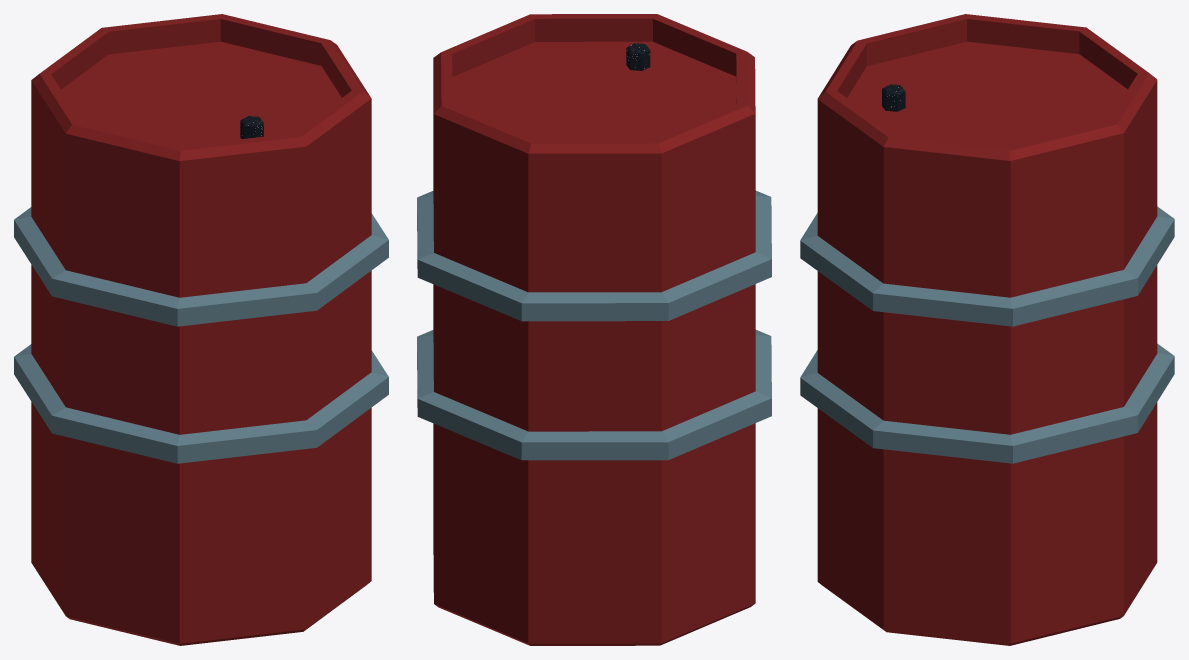
Rendered from Prop_Barrel_Red_B.fbx.
The picture shows the model from 3 angles, left to right: view 1: azimuth 30°, elevation 25°; view 2: azimuth 150°, elevation 25°; view 3: azimuth 270°, elevation 25°; orthographic projection.
Visible parts, largest first — view 1: Prop_Barrel_Red_B; view 2: Prop_Barrel_Red_B; view 3: Prop_Barrel_Red_B.
Boxes of the visible parts, bbox=[...] form: Prop_Barrel_Red_B: bbox=[14, 14, 388, 645]; Prop_Barrel_Red_B: bbox=[417, 14, 771, 645]; Prop_Barrel_Red_B: bbox=[800, 14, 1174, 645].
Bounding box in the file's own units: 77.2 × 77.2 × 112.
